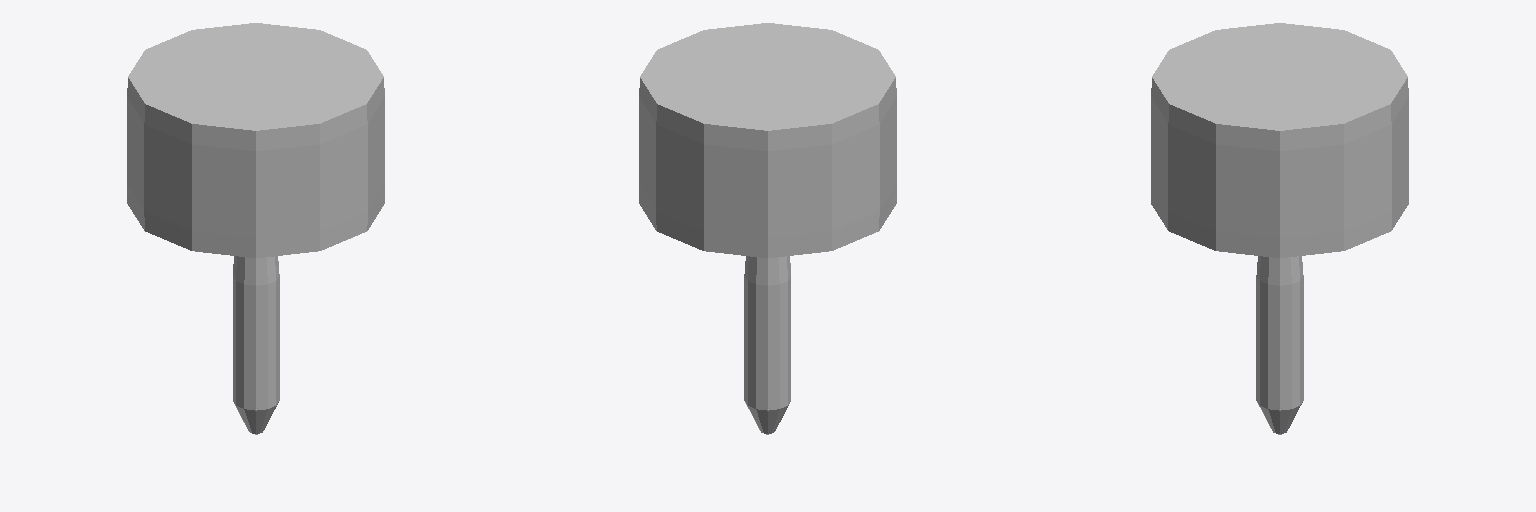
Rendered from cabasa.obj.
The picture shows the model from 3 angles: view 1: azimuth 30°, elevation 25°; view 2: azimuth 150°, elevation 25°; view 3: azimuth 270°, elevation 25°; orthographic projection.
Parts seen in each view (by area): view 1: Converted object 0; view 2: Converted object 0; view 3: Converted object 0.
Boxes of the visible parts, x1,y1,x2,y2 form: Converted object 0: [127, 23, 384, 434]; Converted object 0: [639, 23, 896, 434]; Converted object 0: [1151, 23, 1408, 434].
Bounding box in the file's own units: 4 × 6.13 × 4.